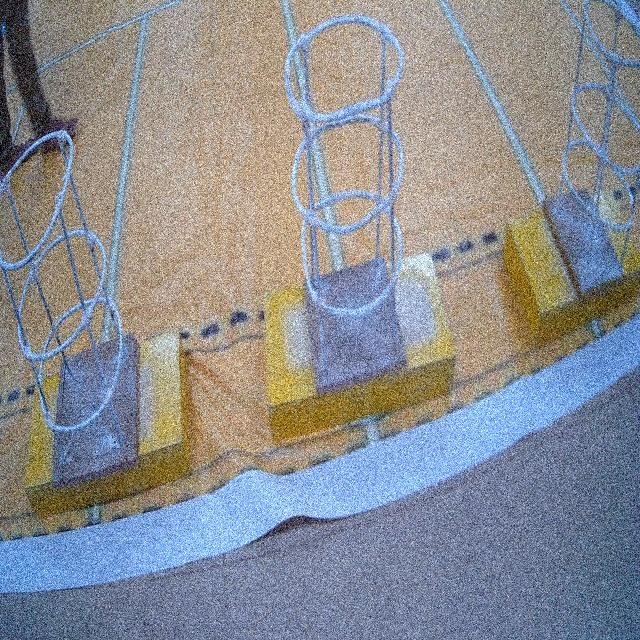silo: (2, 130, 136, 458), (285, 18, 409, 367), (552, 0, 640, 298)
